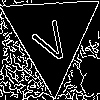V: (26, 10, 74, 67)
